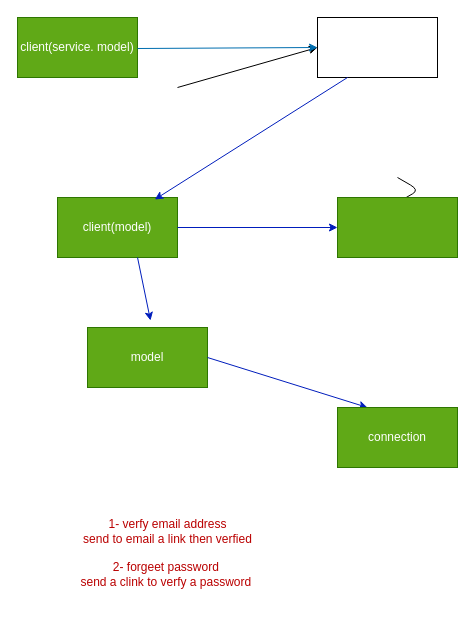
Some shapes in this 475 by 635 pixel diagram are drawn without their labels. The shapes that lost their labels are listed below. From the top down, each one's centre as x and y in pixels, then its label:
At (377,47): "controller(save, update ...etc) this.service(model)".
At (397,227): "Service (save, update ..etc)".
